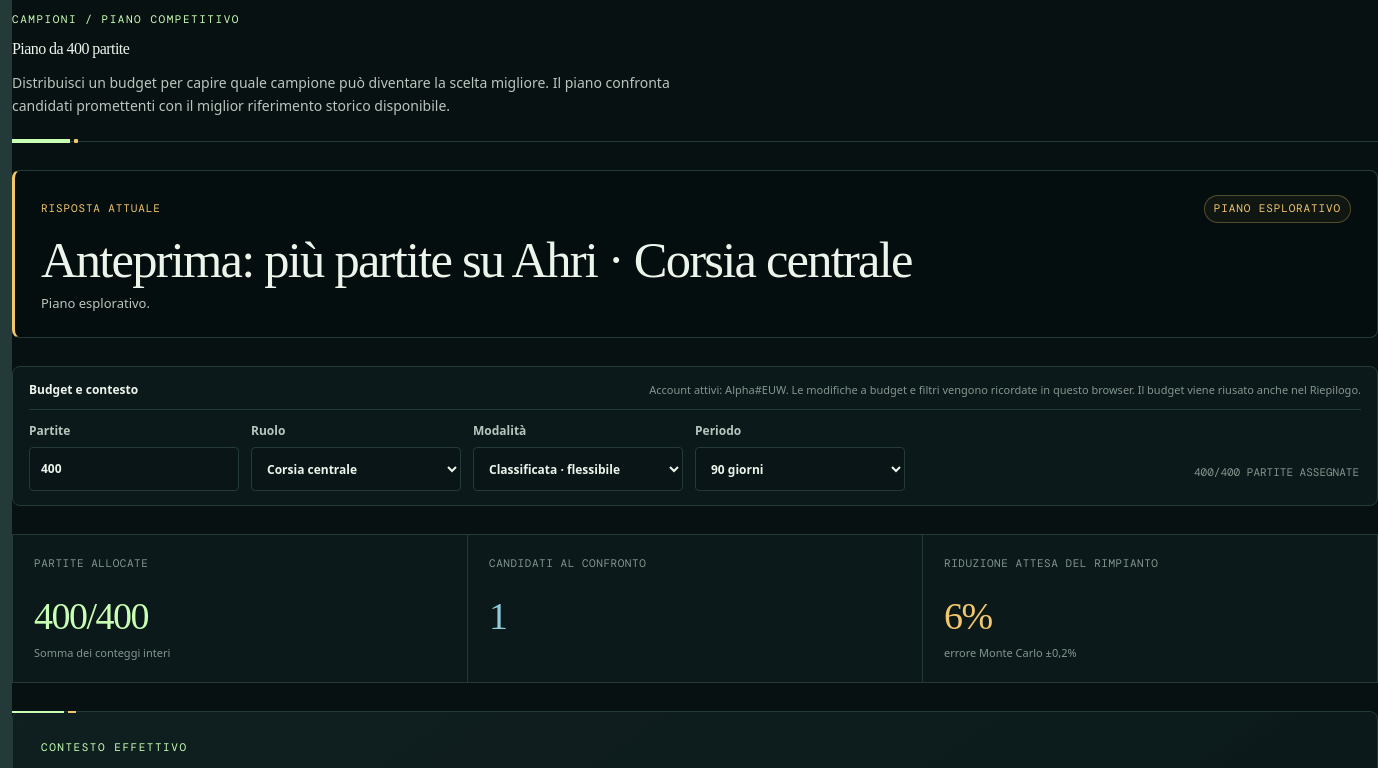
Test case: piano competitivo › permette di digitare 1000 senza richieste intermedie e salva su Enter
Clear the number field named "Budget partite" at (134, 469), box [29,447,239,491]
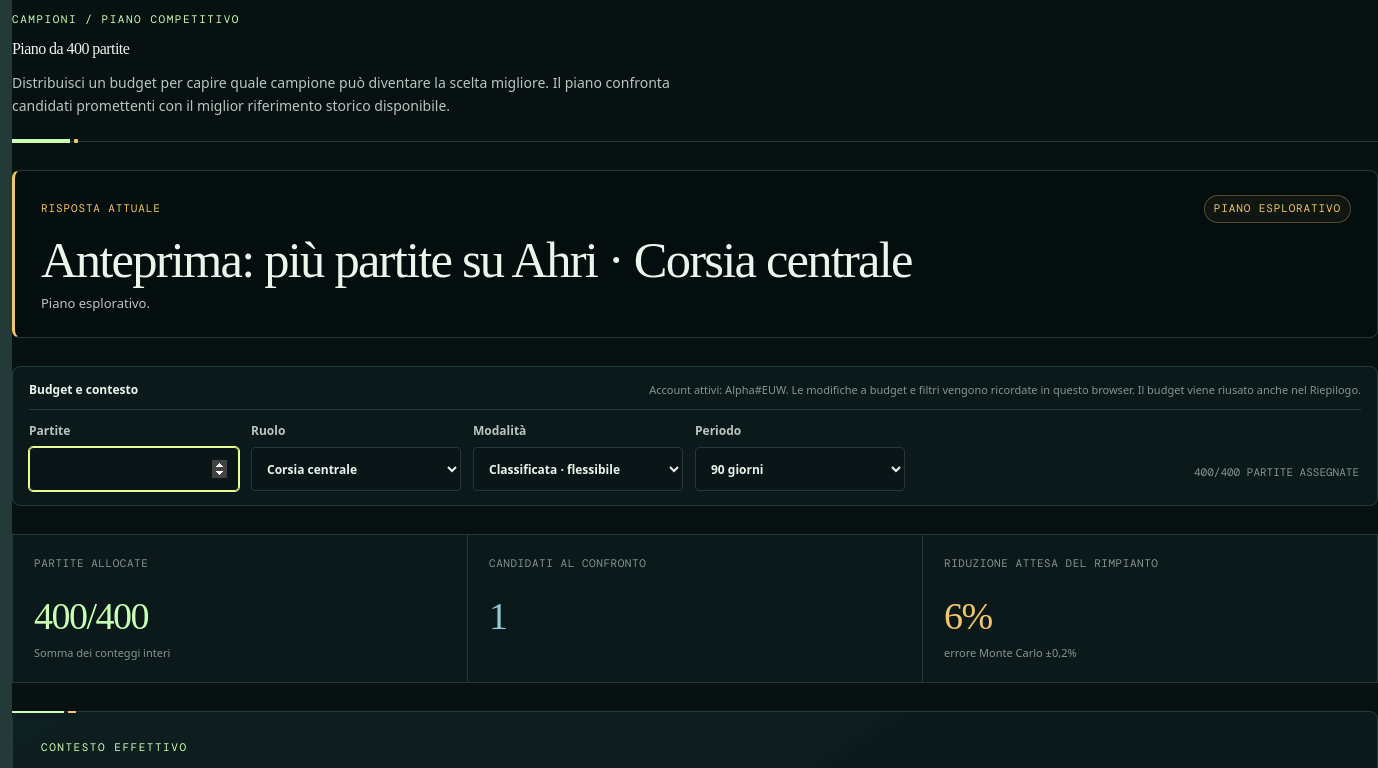
Type "1000" into the number field named "Budget partite" at (134, 469), box [29,447,239,491]
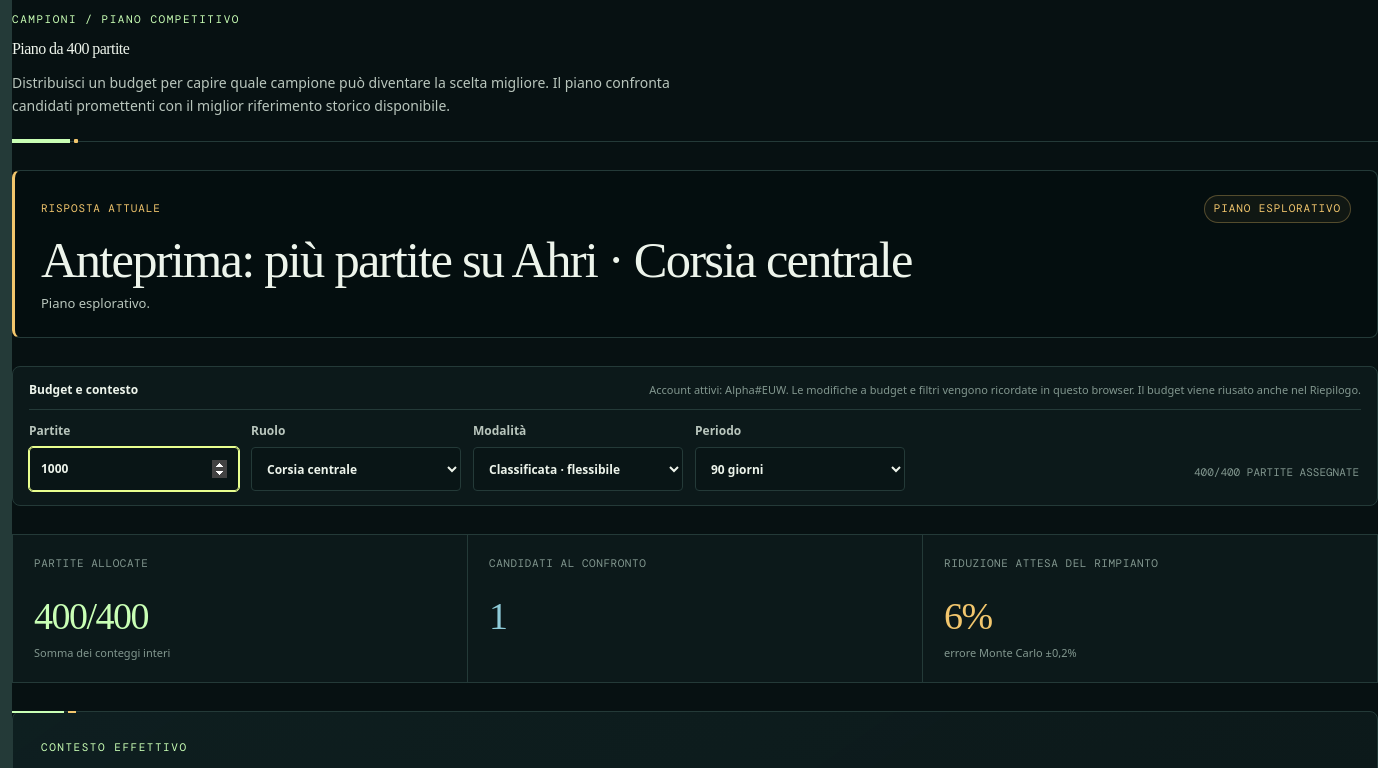
expect the heading "Piano da 400 partite" is shown: met, box [12,40,129,57]
Press Enter
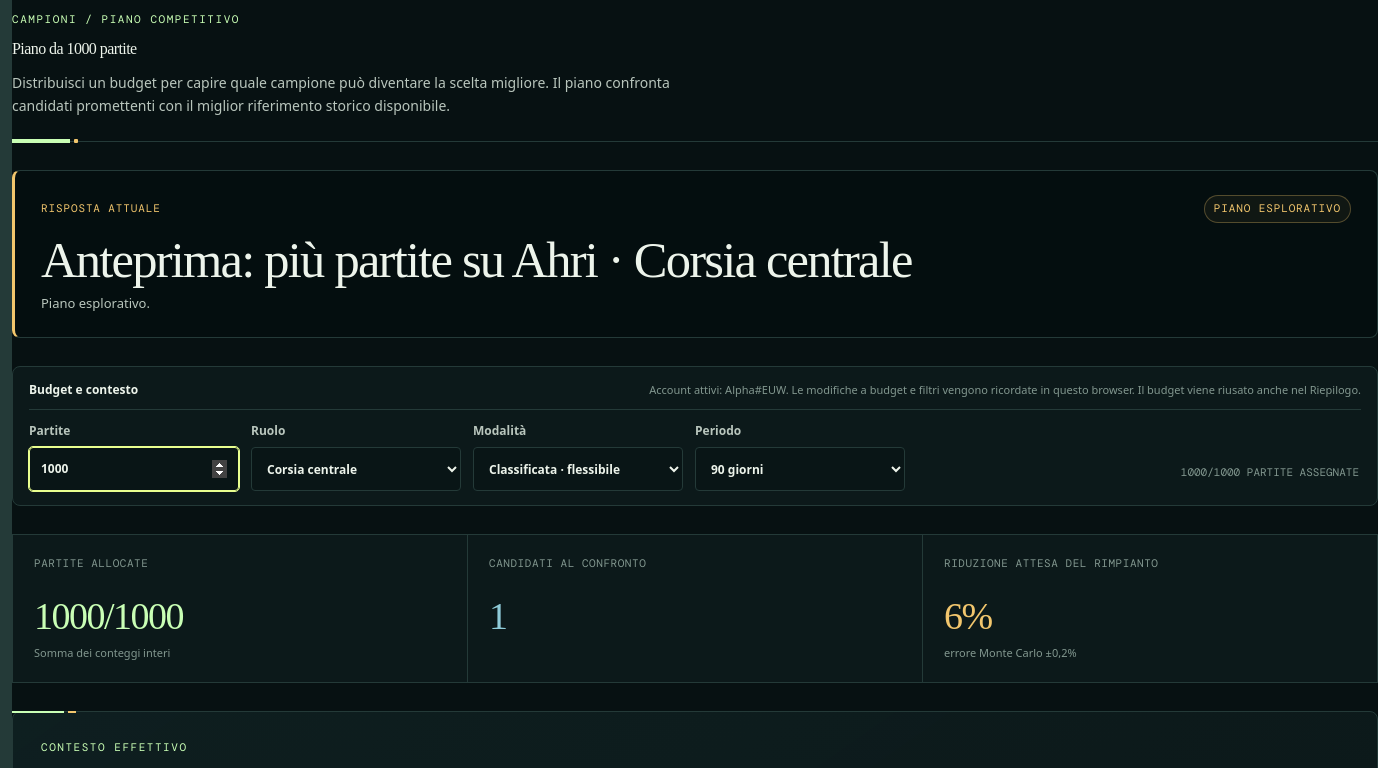
expect the heading "Sto calcolando il piano competitivo" is shown: met, box [41,235,1021,286]
expect the heading "Piano da 1000 partite" is shown: met, box [12,40,137,57]
